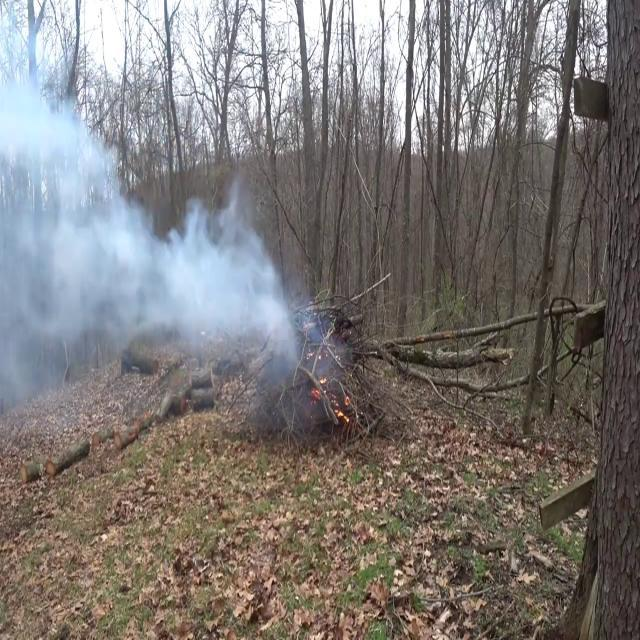Smoke: (0, 62, 141, 444), (128, 182, 303, 372)
